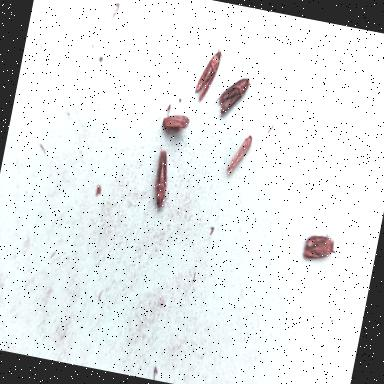pbw: (193, 46, 224, 106), (149, 146, 178, 210), (212, 73, 252, 119), (300, 231, 344, 266), (226, 132, 253, 180), (161, 104, 193, 138)
